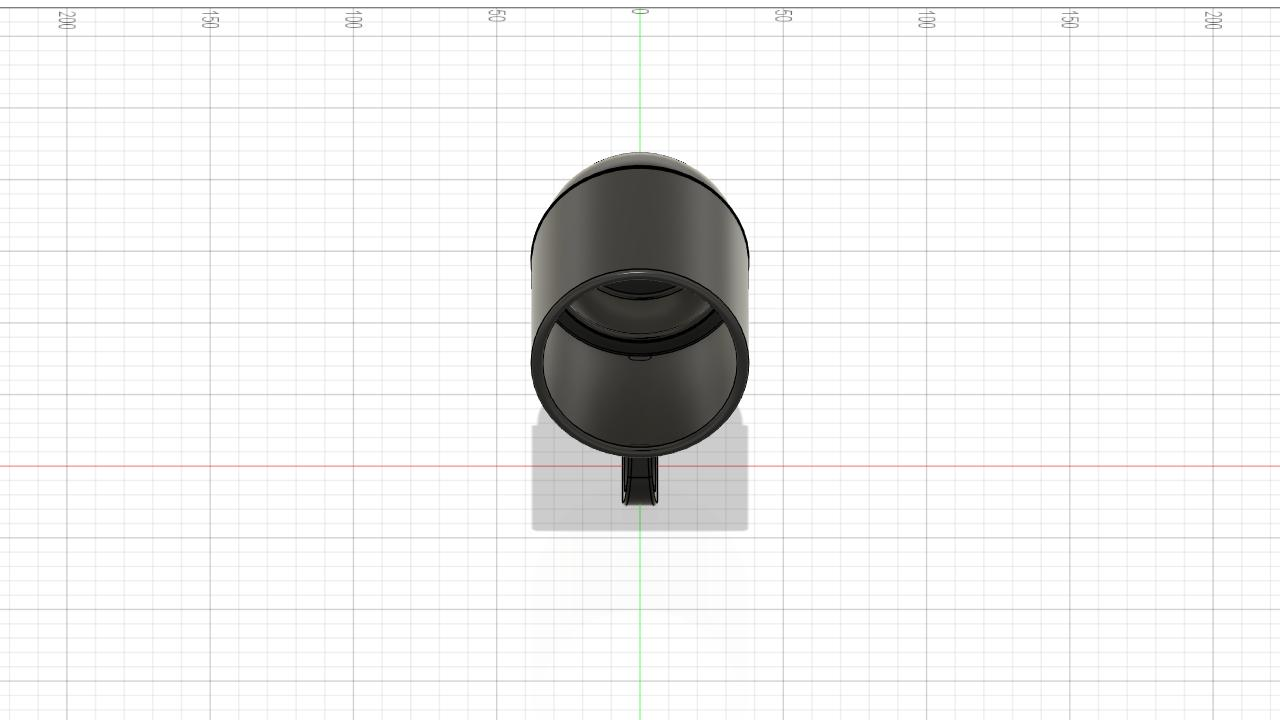mug-real100-3d100: (530, 152, 749, 504)
